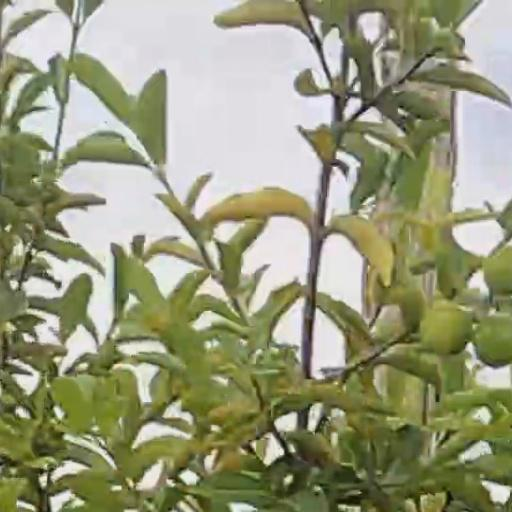acerola: (421, 302, 467, 350), (475, 312, 512, 367), (484, 246, 512, 291)
